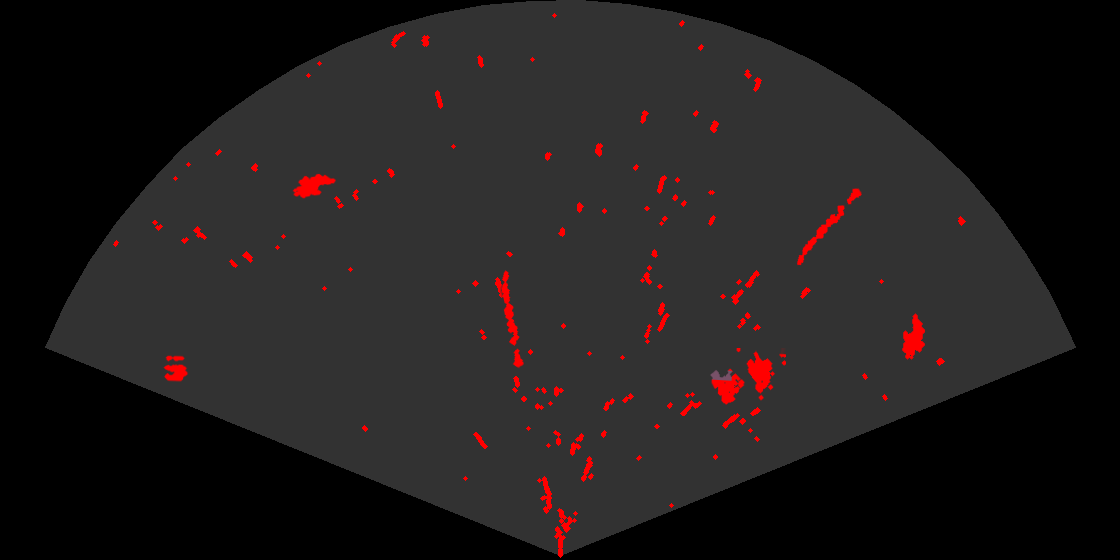AUV: (291, 172, 338, 200), (901, 312, 926, 361)
ball: (162, 354, 190, 383)
cage: (709, 348, 786, 406)
chain: (795, 187, 863, 267), (500, 269, 525, 370)
